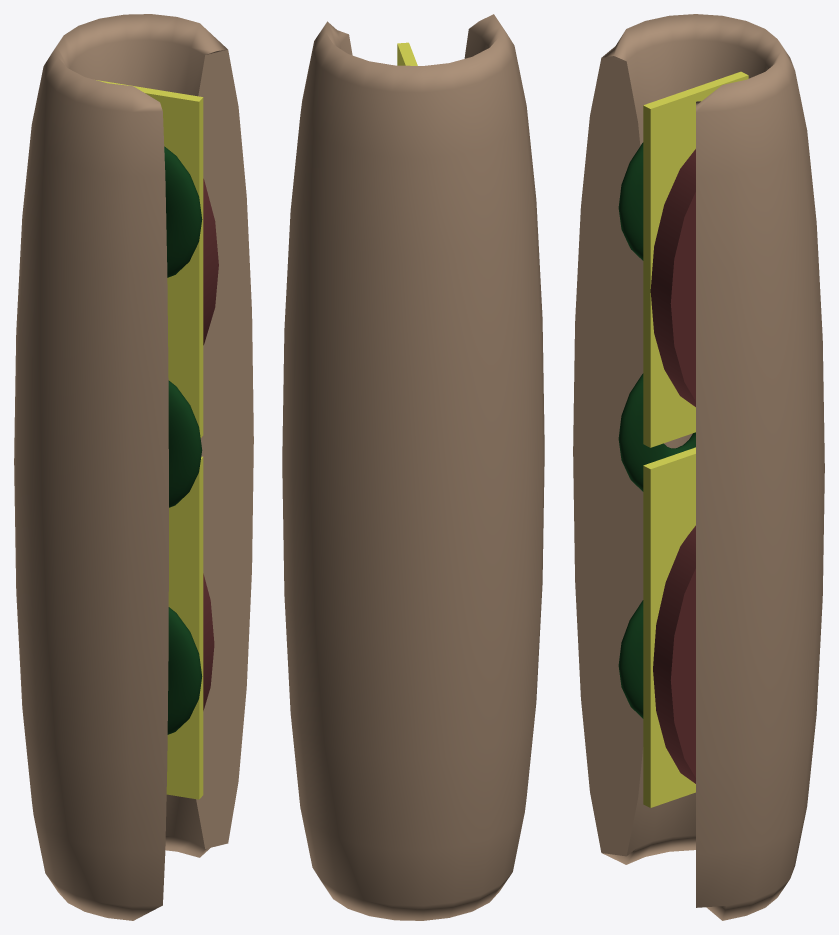
File: sandwich_01.fbx
3 views of the same model, side by side, from view 1: azimuth 30°, elevation 25°; view 2: azimuth 150°, elevation 25°; view 3: azimuth 270°, elevation 25° (orthographic). The views are drawn at different scales.
Visible parts, largest first — view 1: pTorus4; view 2: pTorus4; view 3: pTorus4.
Boxes of the visible parts, <box> form: pTorus4: <box>14,14,253,920</box>; pTorus4: <box>282,14,544,920</box>; pTorus4: <box>573,14,824,920</box>.
Bounding box in the file's own units: 9 × 32.16 × 8.78.
